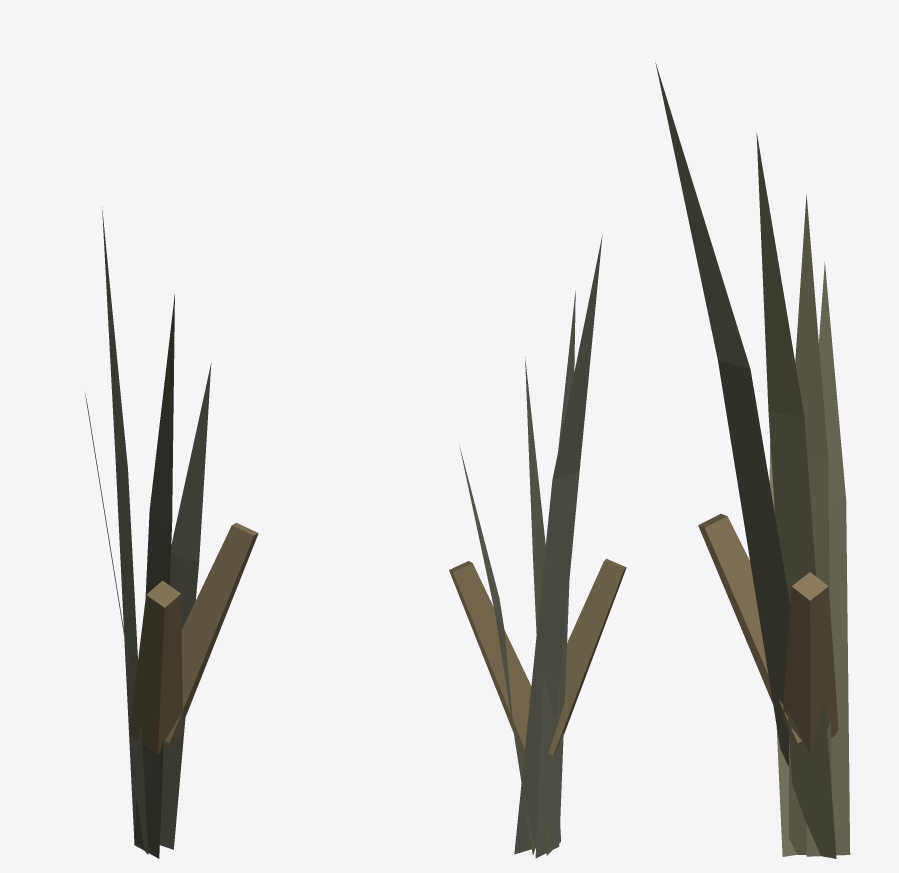
Rendered from shui.changpu@subadult__winter.glb.
3 views of the same model, side by side, from view 1: azimuth 30°, elevation 25°; view 2: azimuth 150°, elevation 25°; view 3: azimuth 270°, elevation 25° (orthographic). The views are drawn at different scales.
Parts seen in each view (by area): view 1: shui.changpu@subadult__winter; view 2: shui.changpu@subadult__winter; view 3: shui.changpu@subadult__winter.
Part boxes in pixels (x1,y1,x2,y2): shui.changpu@subadult__winter: (85, 207, 258, 858); shui.changpu@subadult__winter: (449, 234, 626, 858); shui.changpu@subadult__winter: (655, 63, 850, 858).
Bounding box in the file's own units: 0.3223 × 0.8938 × 0.2103.
